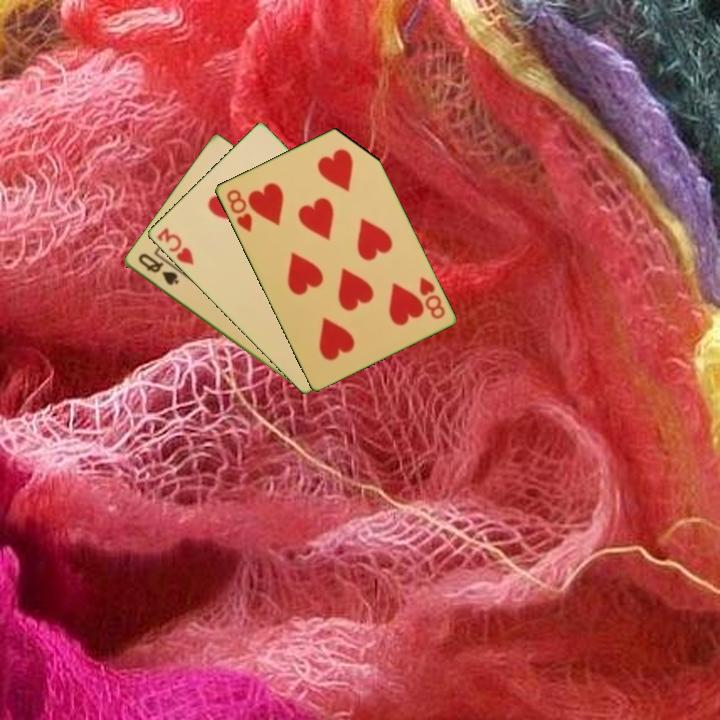3h: (153, 224, 196, 268)
8h: (415, 273, 448, 322), (223, 186, 255, 235)
Qs: (134, 250, 182, 288)
